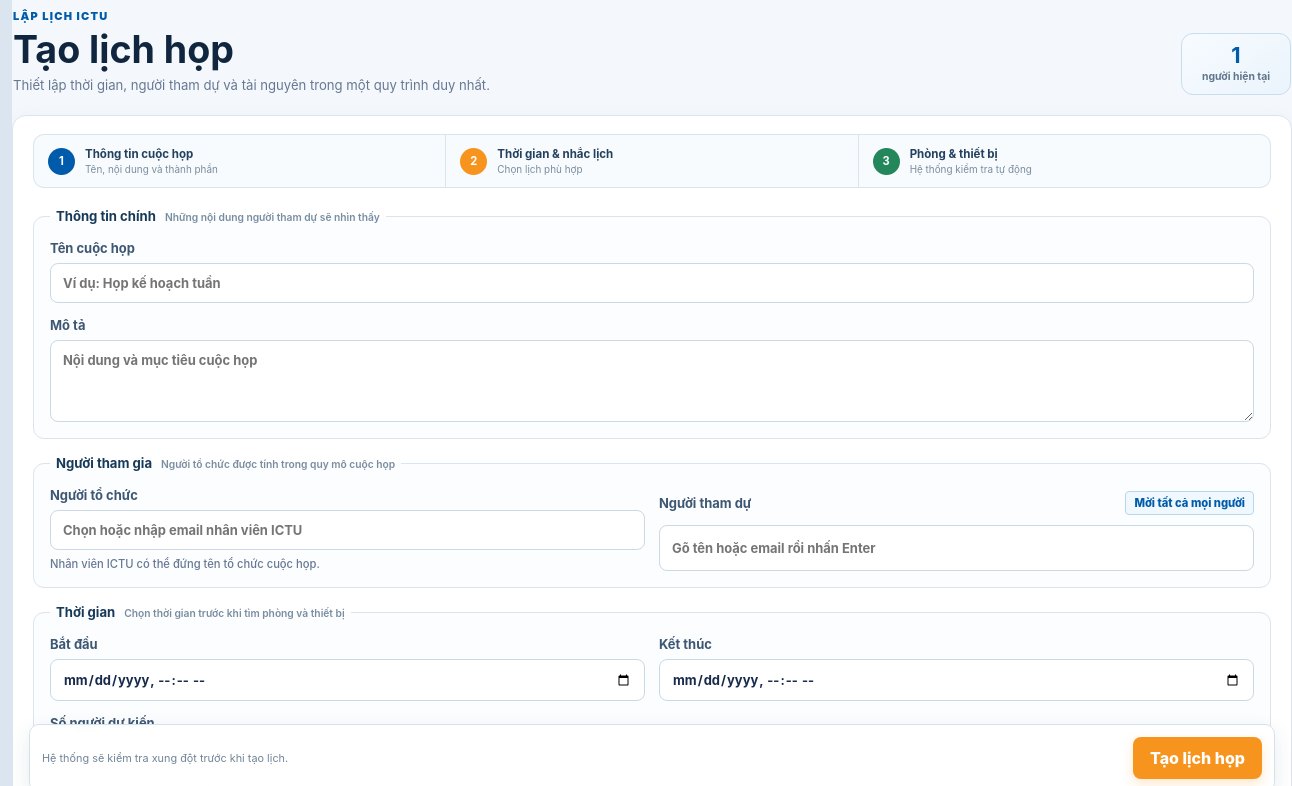
Test: MeetingForm room-aware creation › offers ICTU employees as meeting organizers
The width and height of the screenshot is (1292, 786).
Step 1. Type "employee.one" into the field labelled "Người tổ chức" → (348, 530), box [50,510,645,550]
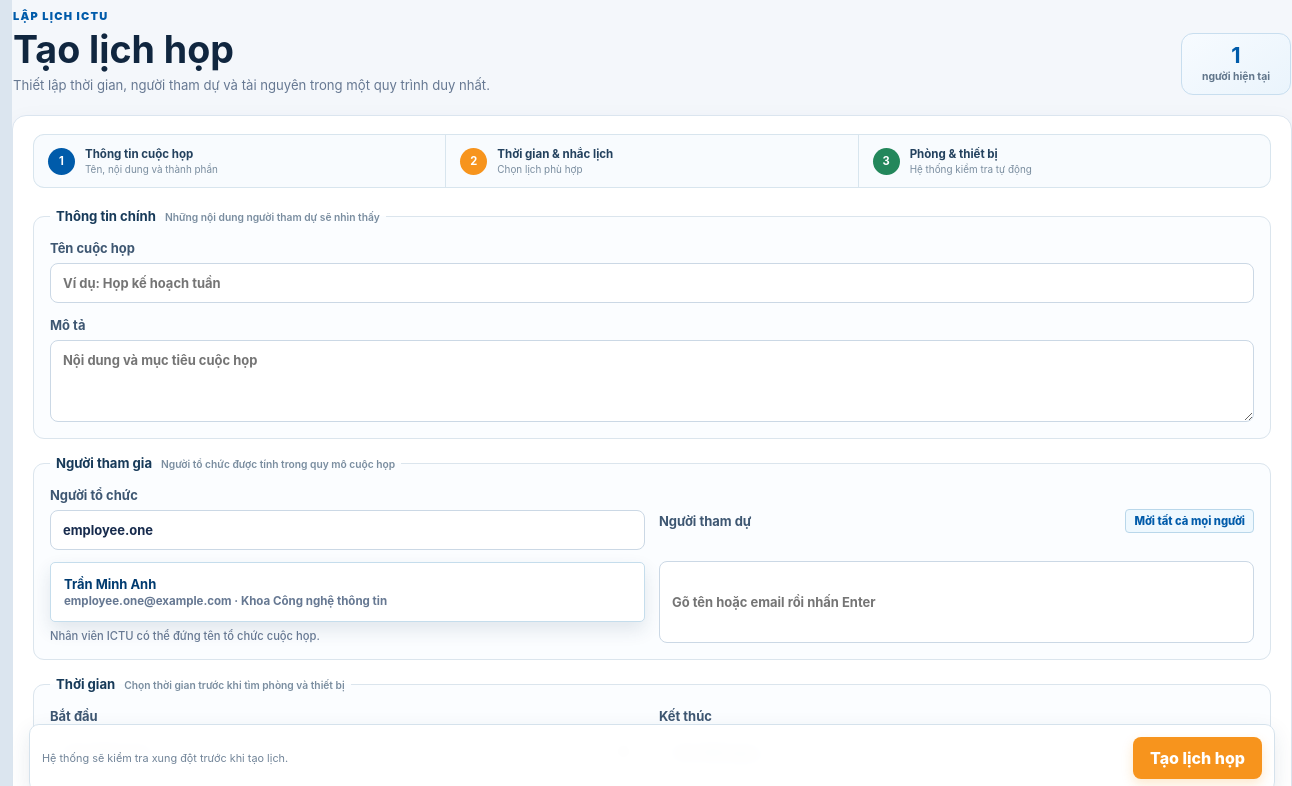
Step 2. Click the button "Trần Minh Anh" → (348, 592), box [56,568,639,616]
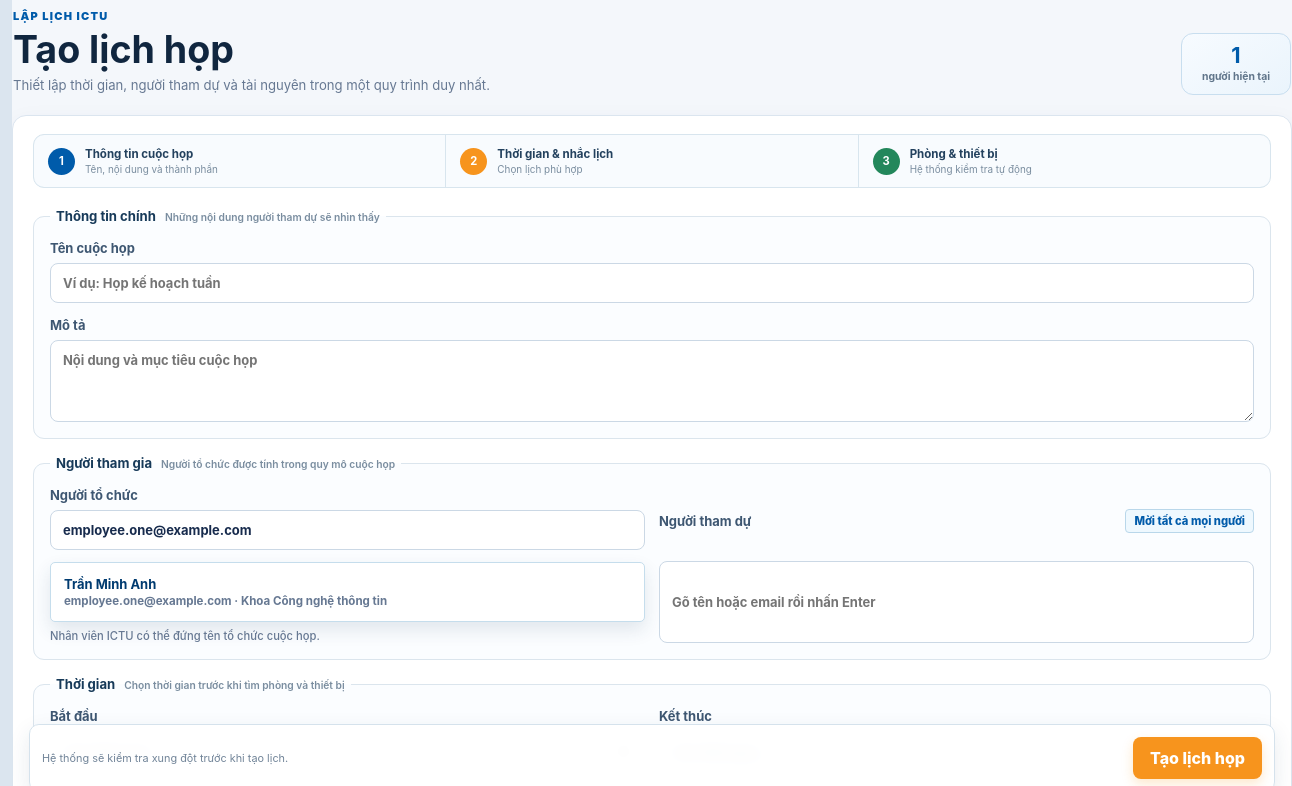
expect the field labelled "Người tổ chức" holds "employee.one@example.com": met, box [50,510,645,550]
